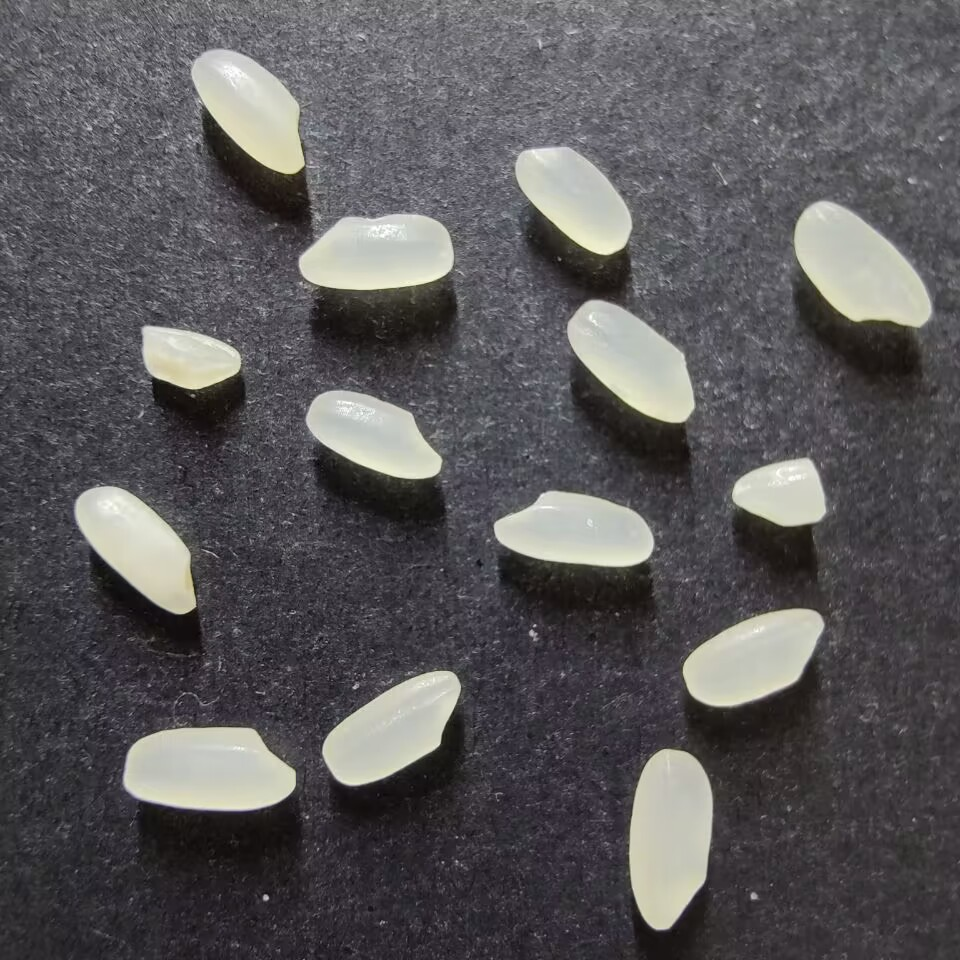broken: (140, 324, 242, 390), (730, 458, 826, 526)
rice: (793, 200, 932, 329), (321, 668, 461, 787), (74, 485, 199, 615), (566, 298, 695, 423), (627, 748, 714, 930), (122, 726, 297, 811), (189, 48, 305, 175), (682, 608, 825, 707), (514, 146, 632, 256), (304, 389, 443, 480), (492, 490, 654, 567), (298, 212, 453, 290)
